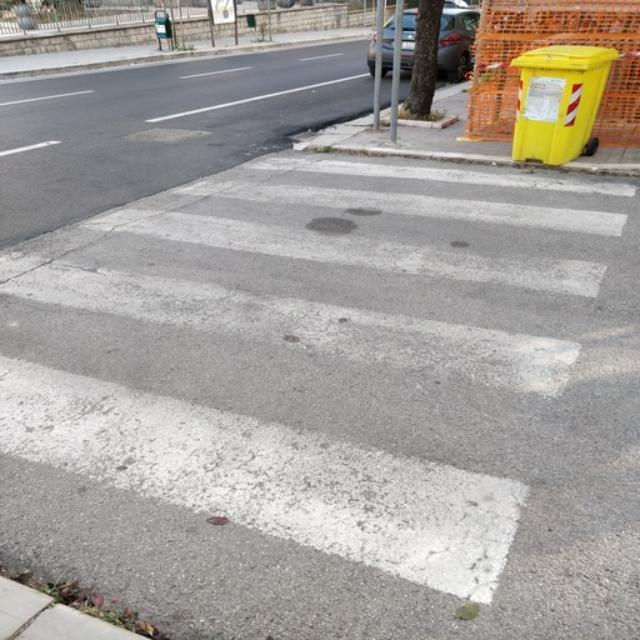sidewalk: (7, 151, 638, 614)
